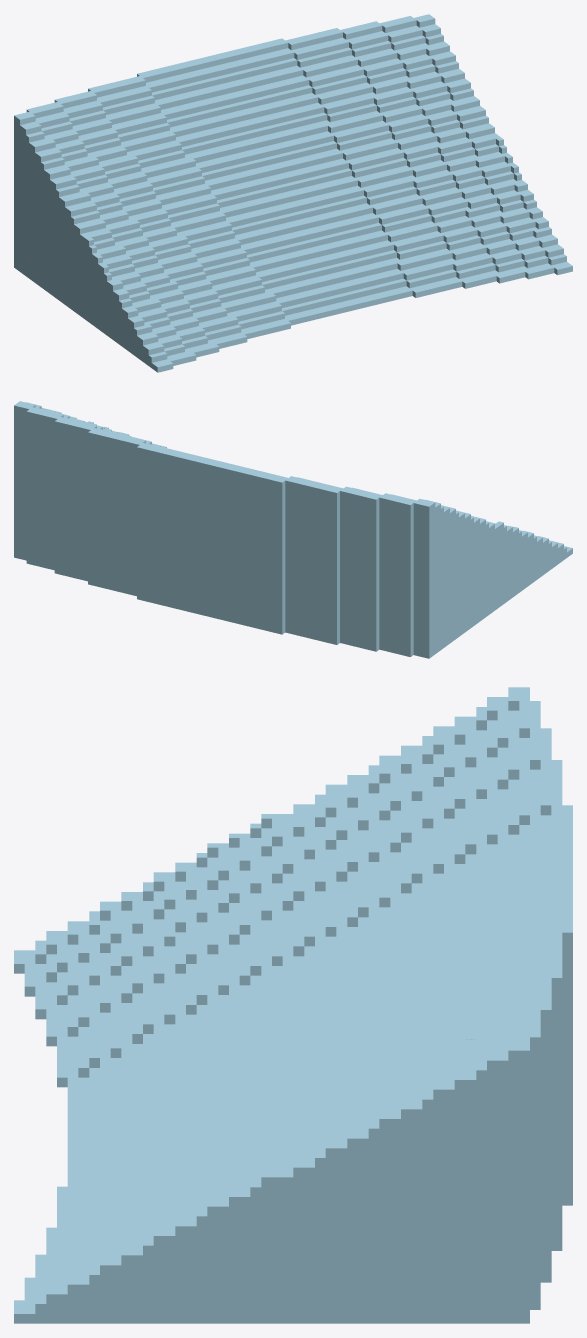
File: globus_central_glass_overtile.obj
The picture shows the model from 3 angles, top to bottom: view 1: azimuth 30°, elevation 25°; view 2: azimuth 150°, elevation 25°; view 3: azimuth 270°, elevation 25°; orthographic projection. The views are drawn at different scales.
Size of the model in its own units: 8 by 2.8 by 5.2.
1 material, 1 textured.
